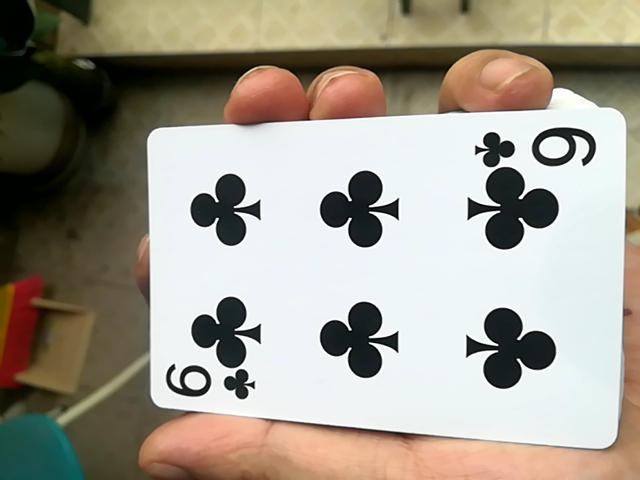mh 6: (138, 103, 623, 450)
